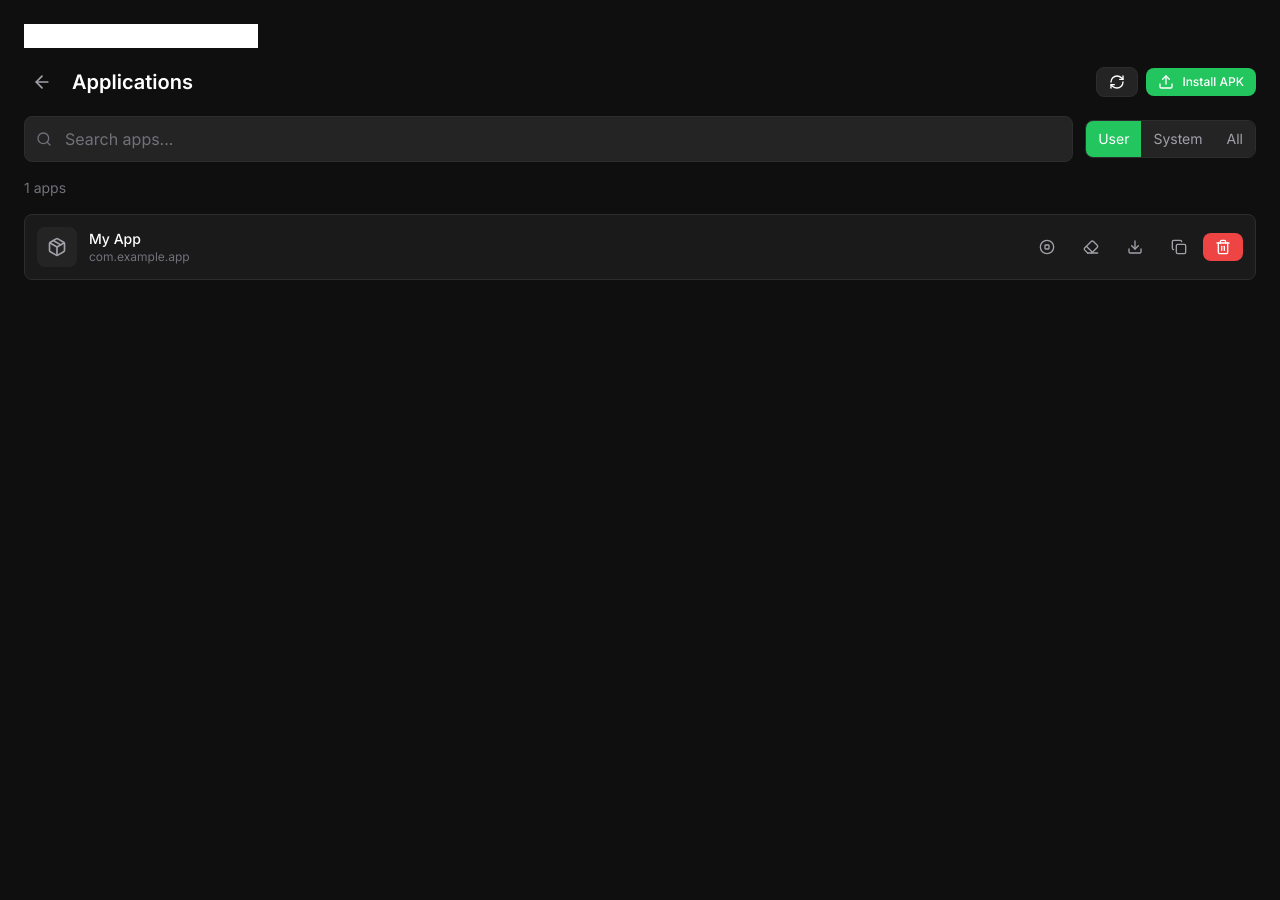
Test: AppsPage › opens and closes clone modal
The width and height of the screenshot is (1280, 900).
Expected: the text "My App" is shown, [89,230,141,247]
What coordinates should you click on to do the following:
click the button titled "Clone App"
I would click on:
 (1179, 247)
Its box is [1159,233,1199,261].
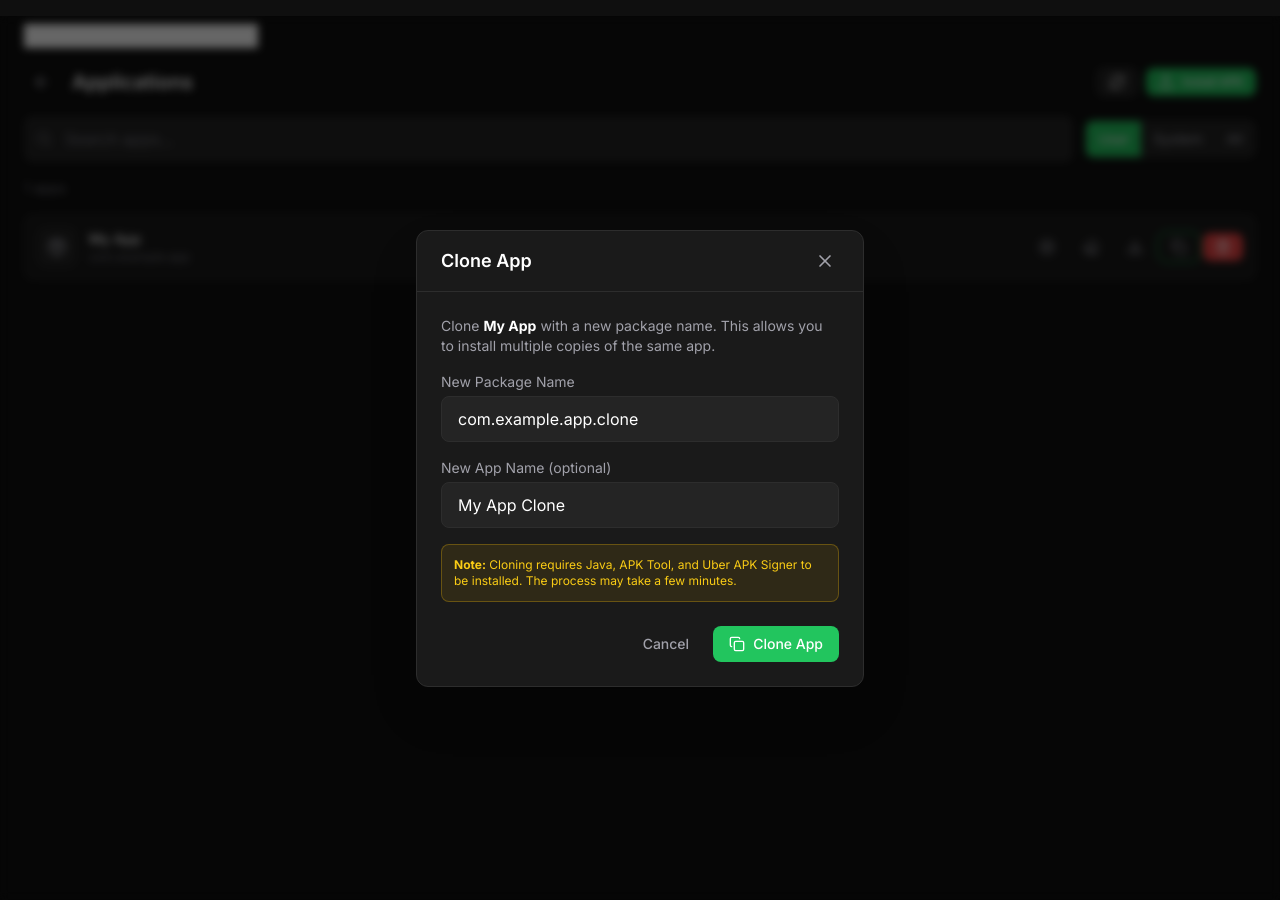
Expected: the 2nd field showing "com.example.app.clone" is shown, [441,396,839,442]
What coordinates should you click on to do the following:
click the button "Cancel"
I would click on:
 (666, 644)
Its box is [627,626,705,662].
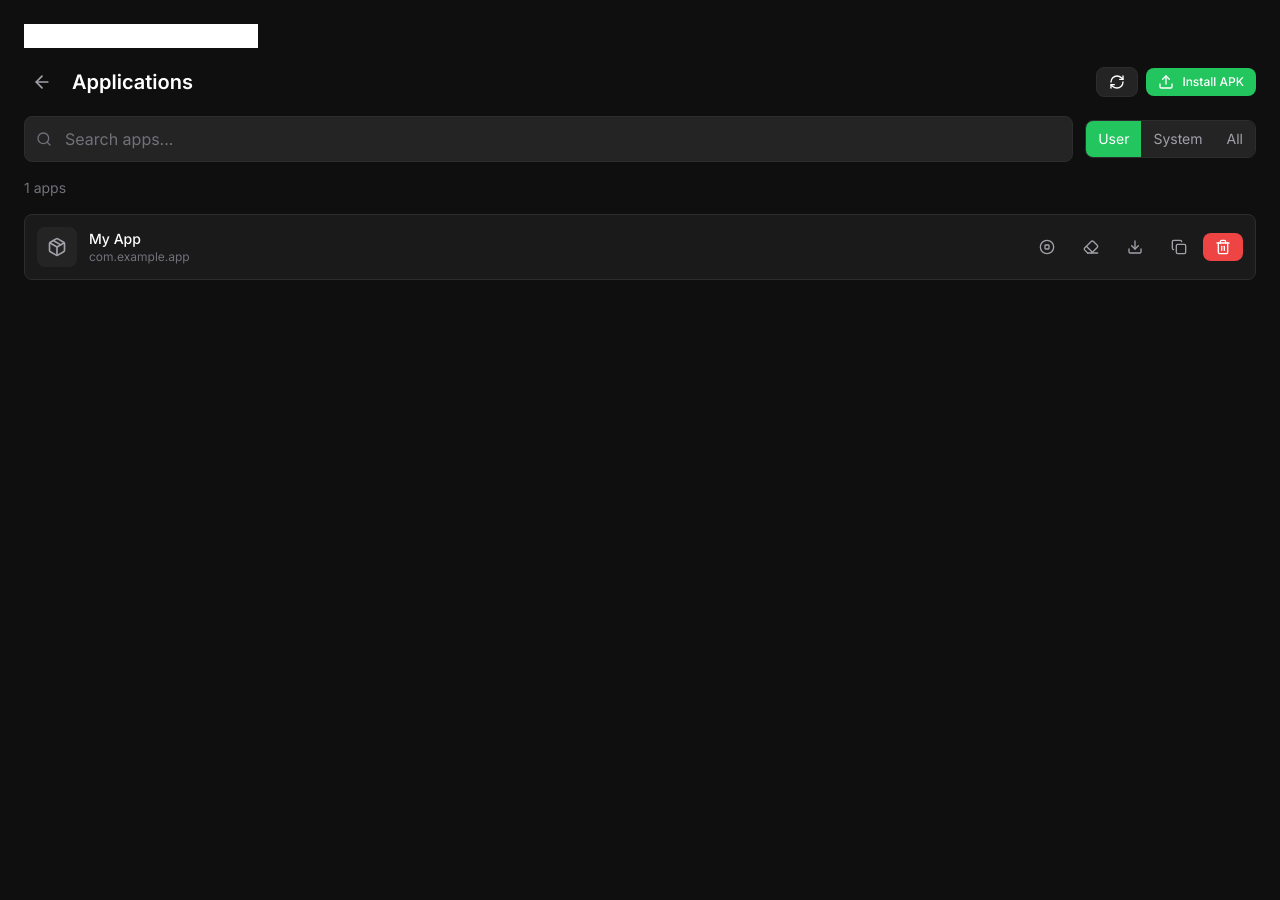
Expected: the field showing "com.example.app.clone" is gone
